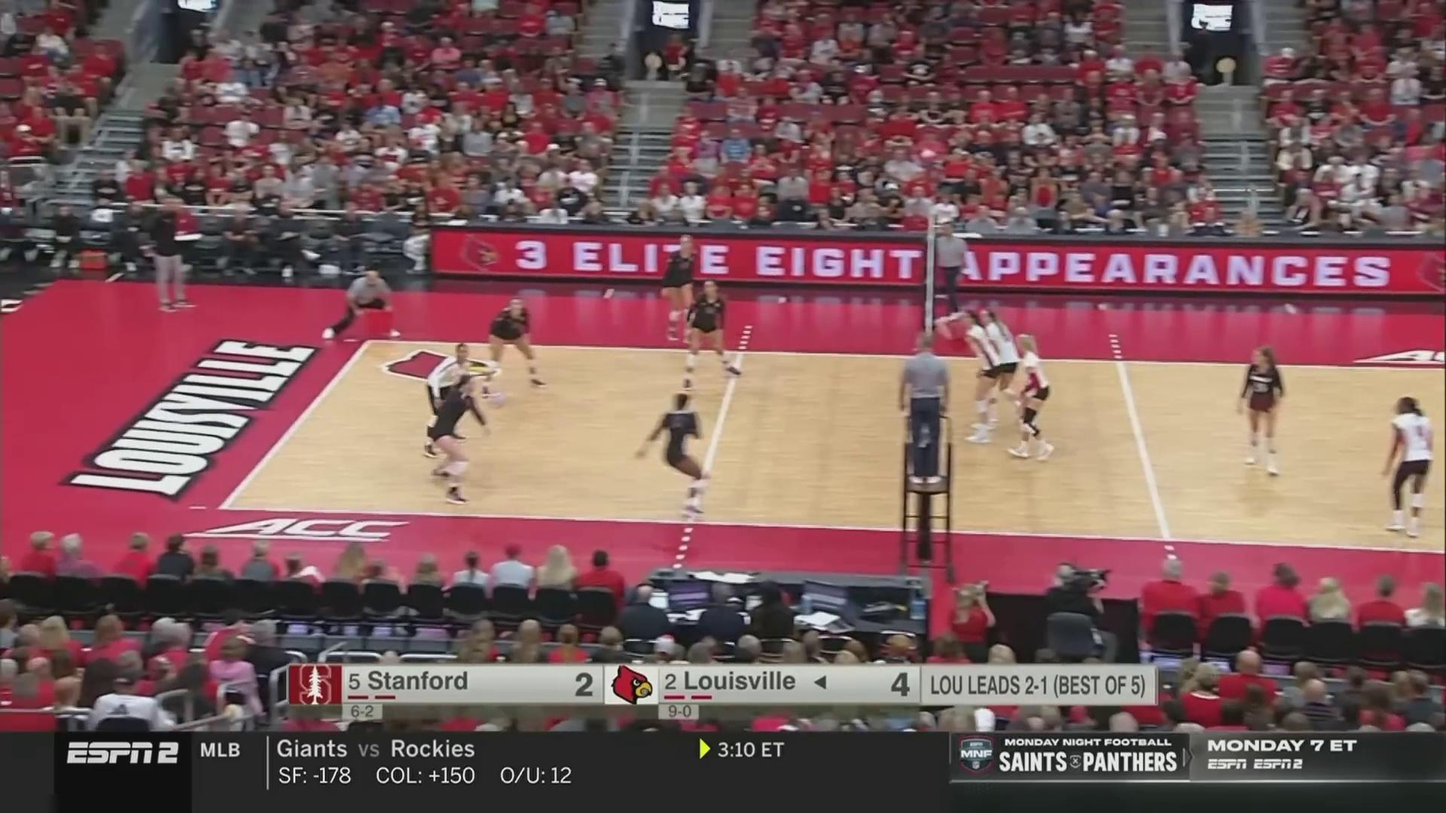player: (638, 393, 709, 518), (942, 311, 1001, 443), (978, 309, 1037, 431), (1384, 395, 1435, 536), (436, 375, 489, 502), (684, 280, 743, 386), (1239, 346, 1285, 475), (484, 299, 547, 390), (1009, 331, 1052, 463), (424, 343, 471, 456), (664, 234, 699, 345)
refree: (900, 335, 950, 483), (323, 272, 401, 340), (933, 221, 969, 319)
